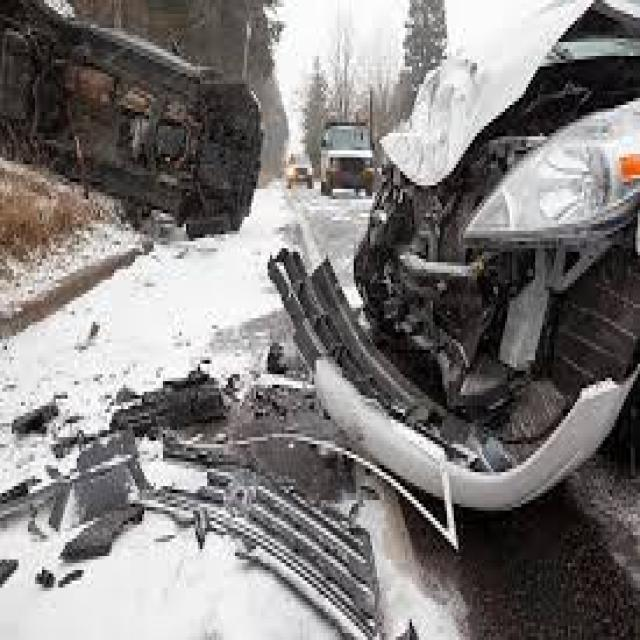Accident: (268, 2, 640, 640), (0, 0, 263, 238)
